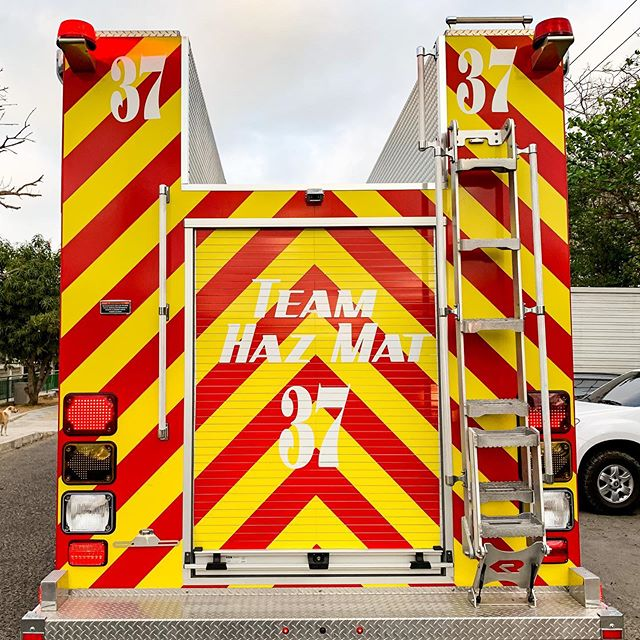firetruck: (38, 1, 588, 622)
